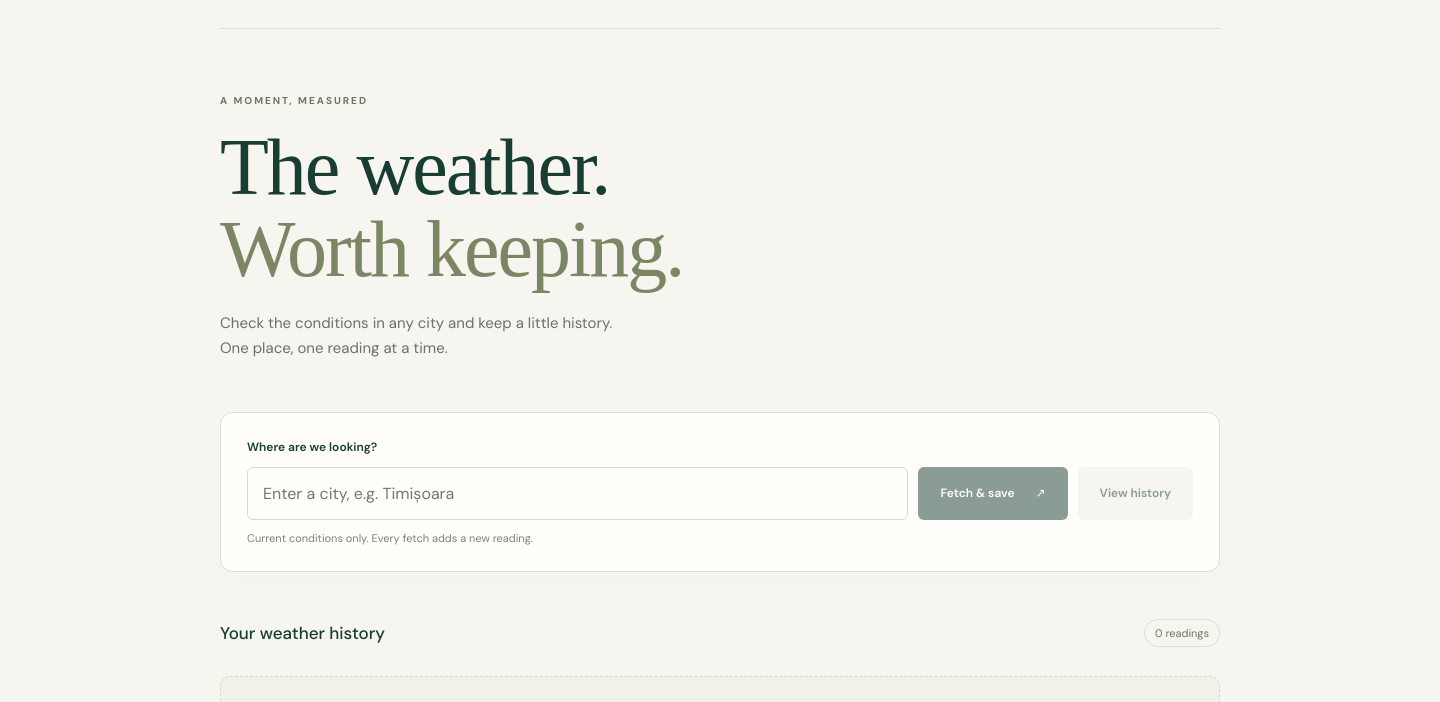
it: loads history without fetching new conditions
Type "New York" into the field labelled "Where are we looking?".
click(578, 493); type("New York")  # box x1=247 y1=467 x2=908 y2=520
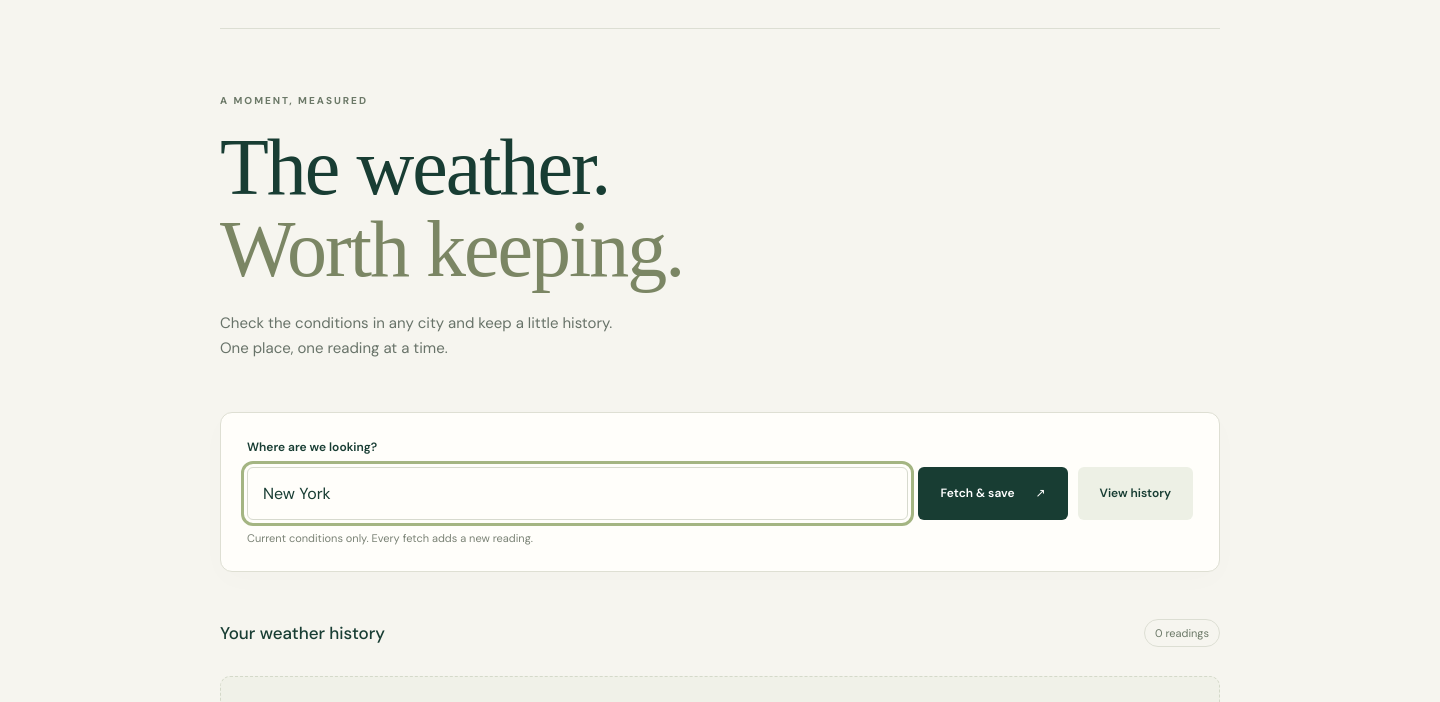
Click the button "View history".
click(1135, 493)  # box x1=1078 y1=467 x2=1193 y2=520
(page scrolled)
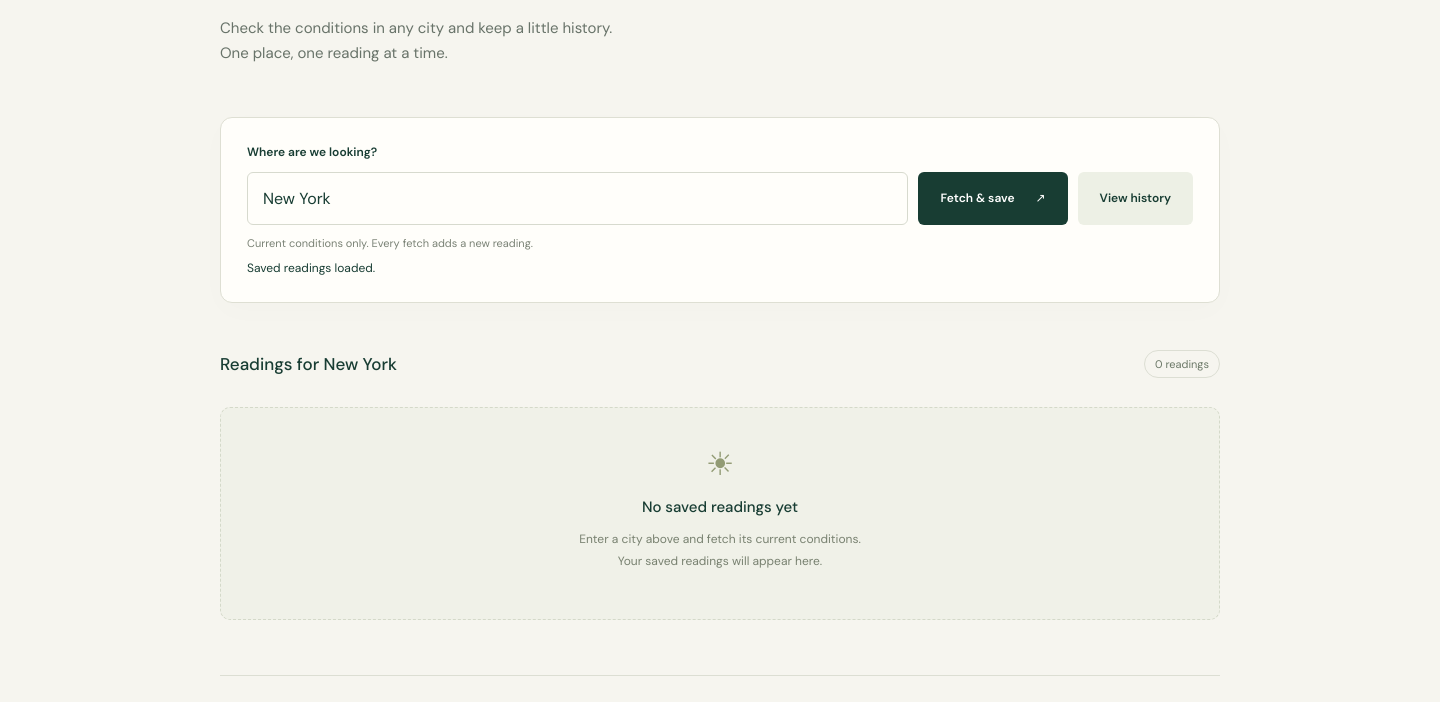
Check: the heading "No saved readings yet" is shown, box x1=642 y1=497 x2=798 y2=517
